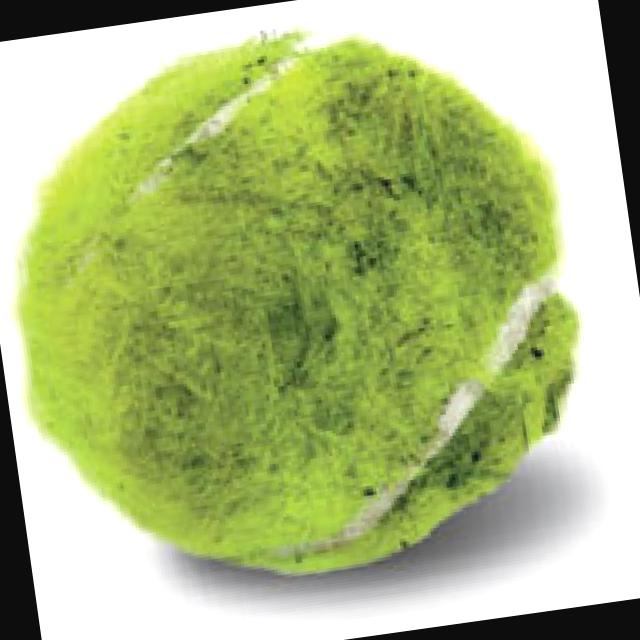Tennis Ball: (14, 34, 584, 580)
